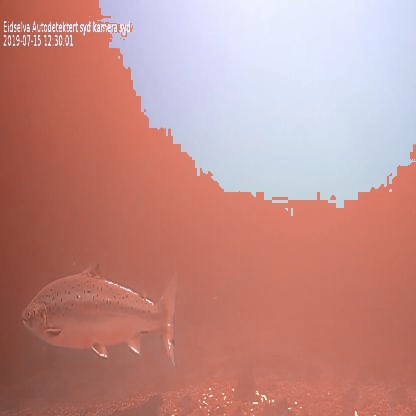salmon: (19, 258, 180, 375)
